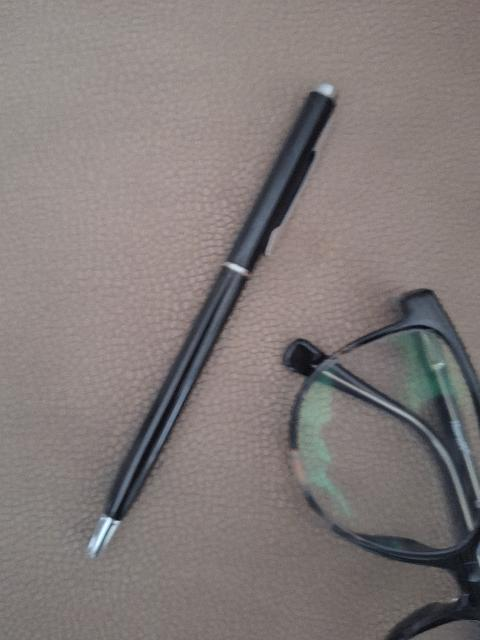writing_tool: (83, 84, 342, 562)
